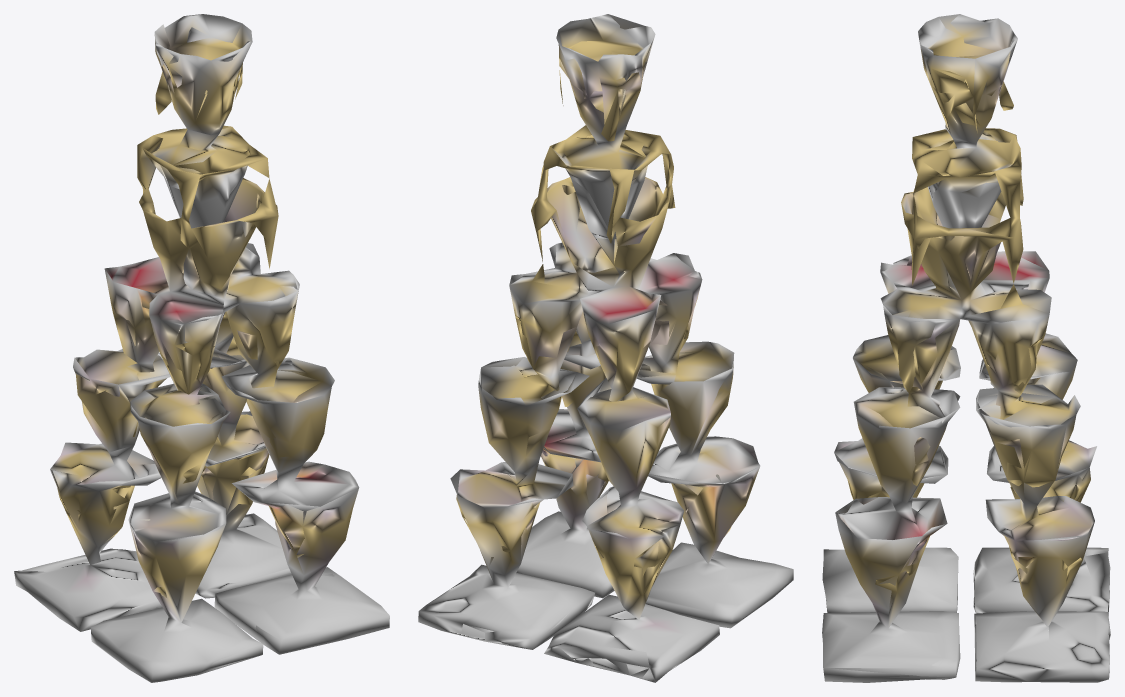
File: gen3d-champagne-tower-lod0.glb
The picture shows the model from 3 angles, left to right: view 1: azimuth 30°, elevation 25°; view 2: azimuth 150°, elevation 25°; view 3: azimuth 270°, elevation 25°; orthographic projection. The views are drawn at different scales.
Visible parts, largest first — view 1: part_0; view 2: part_0; view 3: part_0.
Boxes of the visible parts, left/top/right/bottom form: part_0: left=14, top=14, right=389, bottom=682; part_0: left=418, top=14, right=793, bottom=682; part_0: left=822, top=14, right=1110, bottom=682.
Bounding box in the file's own units: 0.444 × 0.9998 × 0.4439.
